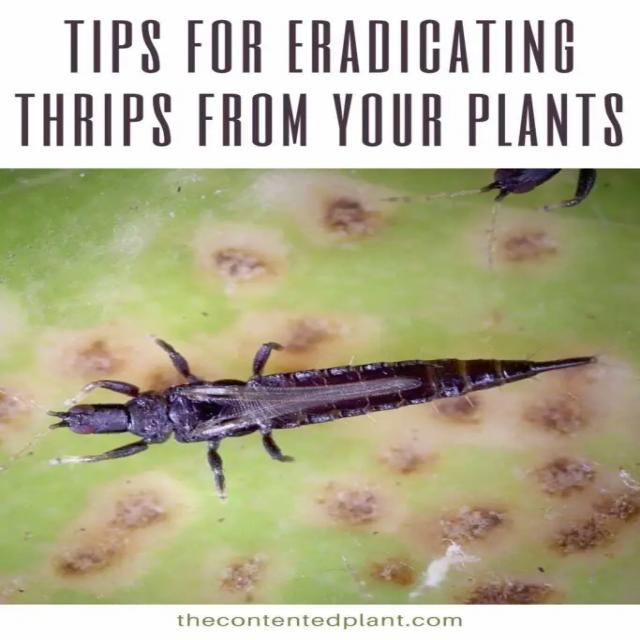Thrip-Adult-: (40, 317, 598, 474)
